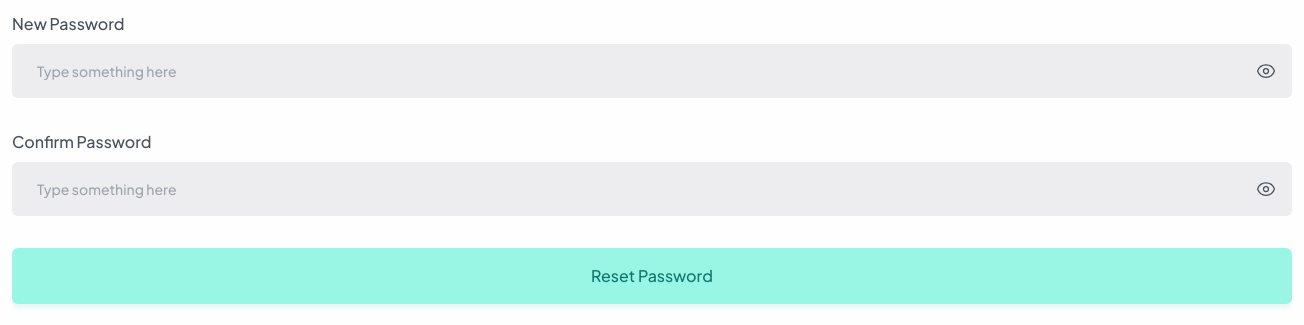
Test case: Functionality › should render correct errors whne password and confirmPassword are empty
Step 1. Click the button "Reset Password" → (652,276), box [12,248,1292,304]
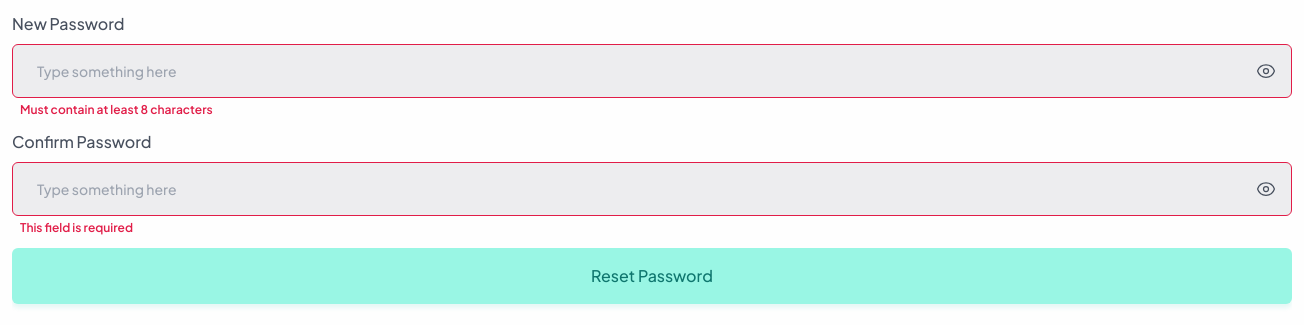
Now the text "Must contain at least 8 characters" is shown, box [20,102,213,118]
Now the text "This field is required" is shown, box [20,220,133,236]
